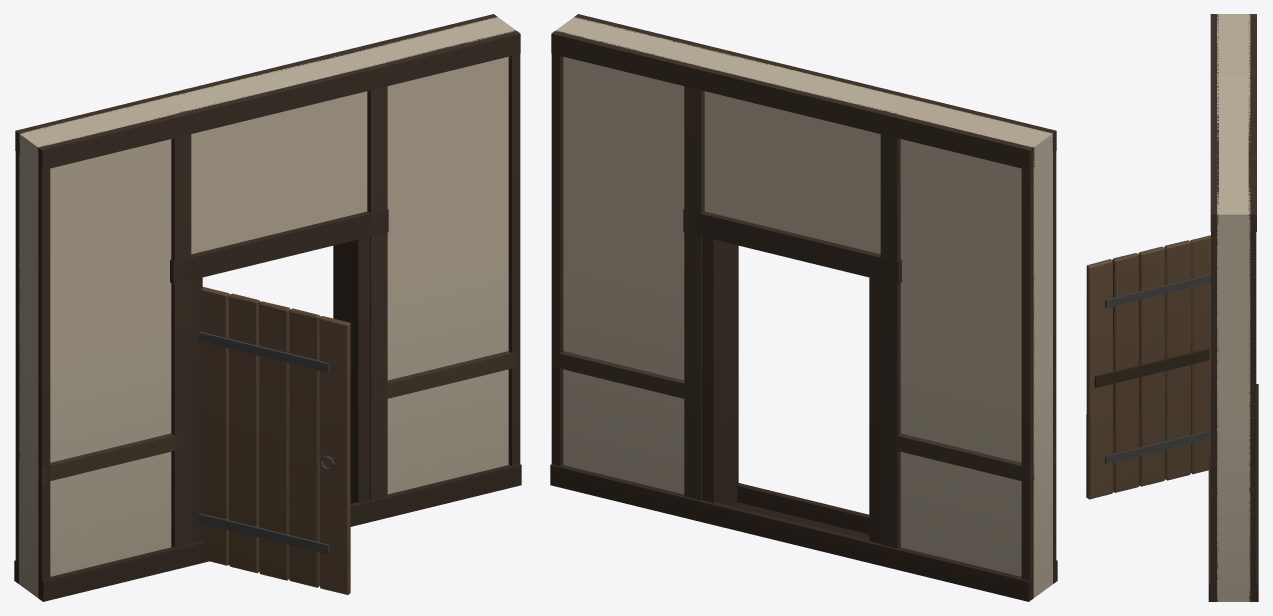
File: int_wall_plaster_door.glb
3 views of the same model, side by side, from view 1: azimuth 30°, elevation 25°; view 2: azimuth 150°, elevation 25°; view 3: azimuth 270°, elevation 25° (orthographic). The views are drawn at different scales.
Visible parts, largest first — view 1: int_wall_plaster_door; view 2: int_wall_plaster_door; view 3: int_wall_plaster_door.
Part boxes in pixels (bbox=[...]): int_wall_plaster_door: bbox=[14, 14, 521, 601]; int_wall_plaster_door: bbox=[550, 14, 1057, 601]; int_wall_plaster_door: bbox=[1086, 14, 1258, 601].
Size of what is drawn, in the model's own units: 4 by 3.6 by 1.45.
